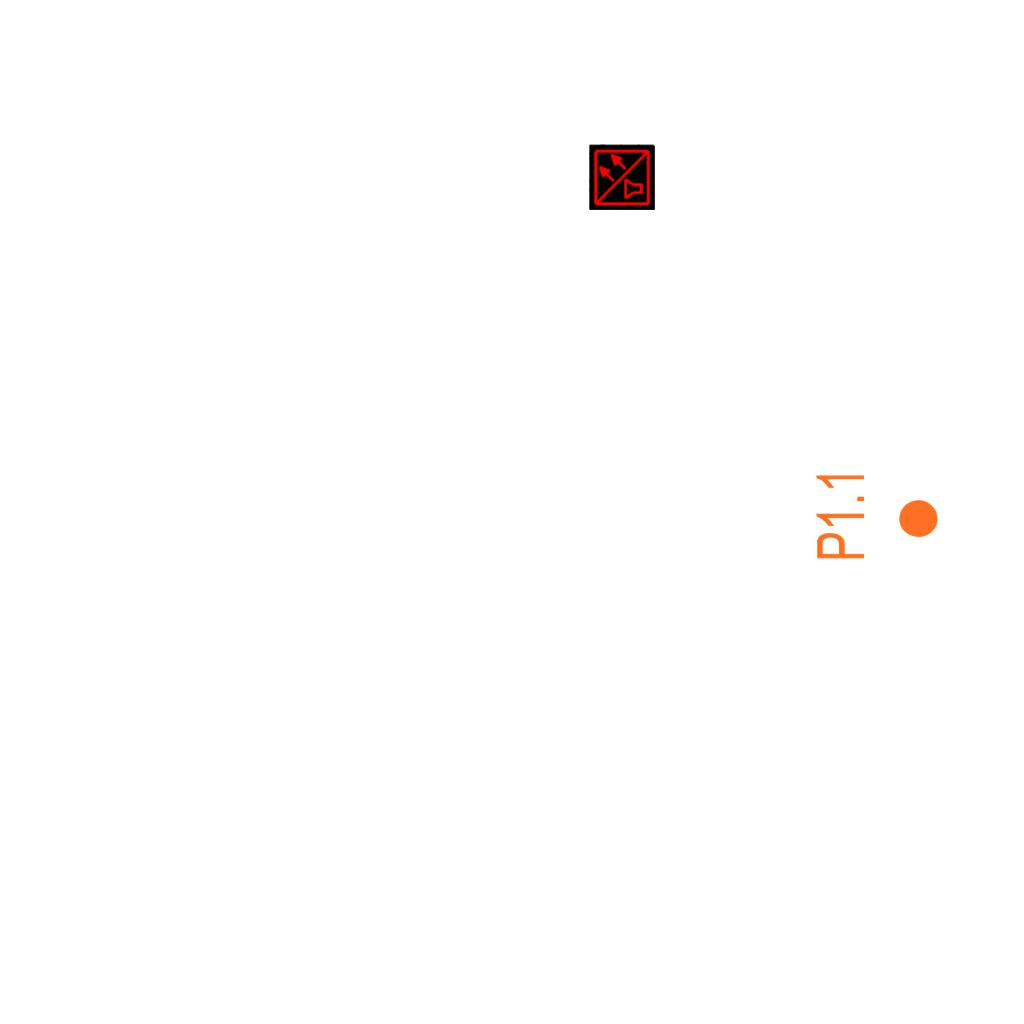Downlight_LED_Einbauleuchten_Flur: (813, 469, 941, 562)
OKW_Multisensormelder_(Kombination_optischer_Rauch-Kahlenmonoxid_Waerme-Melder): (589, 144, 655, 210)
